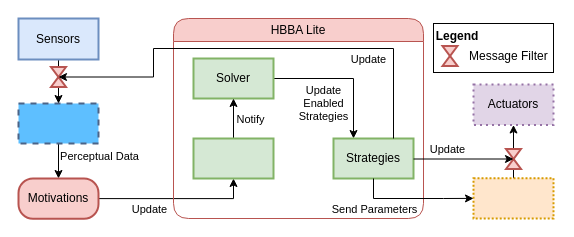
Image size: 574x237. Some labels were removed from this diagram. The centre of each missing label's shape, as x and y in pixels:
Behavior Nodes: the point at 513,198
Desire Set: the point at 233,158
Perceptual Nodes: the point at 58,123
